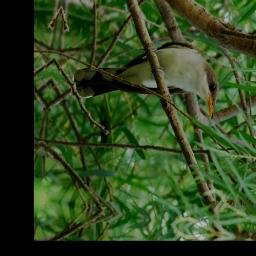Cuckoo: (70, 22, 224, 126)
